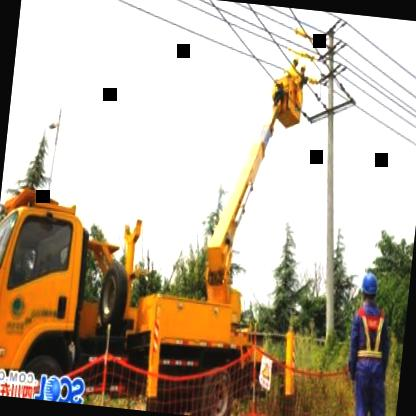helmet: (358, 266, 379, 307)
